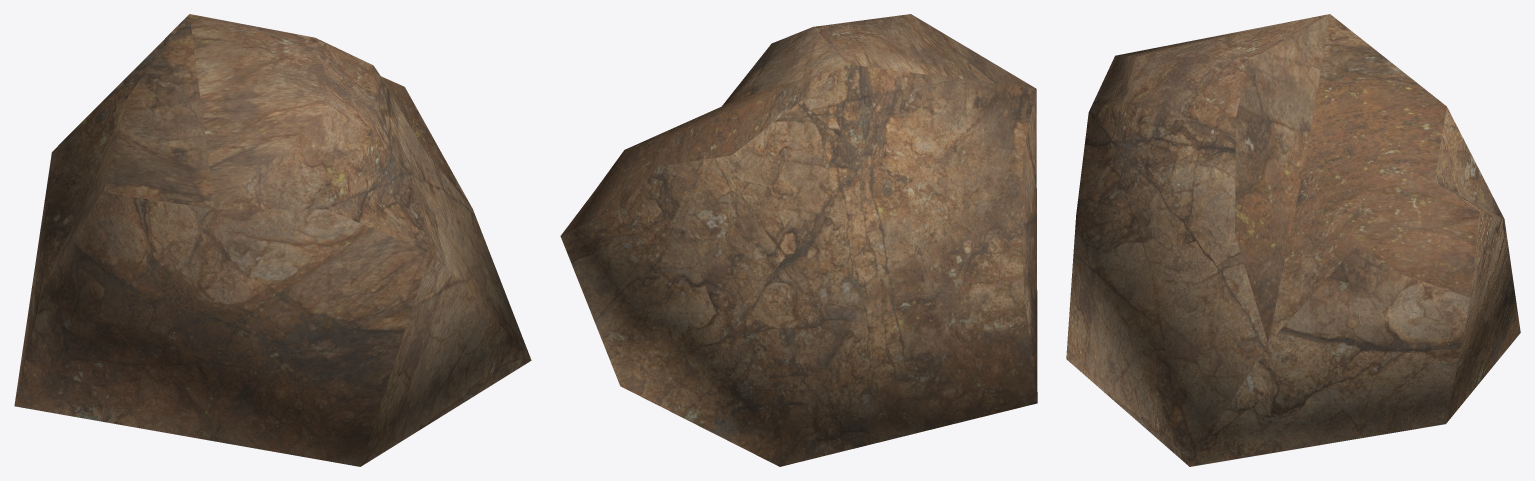
The model's file is midrock1.fbx.
3 views of the same model, side by side, from view 1: azimuth 30°, elevation 25°; view 2: azimuth 150°, elevation 25°; view 3: azimuth 270°, elevation 25° (orthographic). The views are drawn at different scales.
Visible parts, largest first — view 1: MidRock1; view 2: MidRock1; view 3: MidRock1.
Boxes of the visible parts, x1,y1,x2,y2 form: MidRock1: (14, 14, 531, 466); MidRock1: (560, 14, 1037, 466); MidRock1: (1066, 14, 1520, 466).
Bounding box in the file's own units: 68.5 × 50.98 × 63.27.
1 material, 1 textured.
